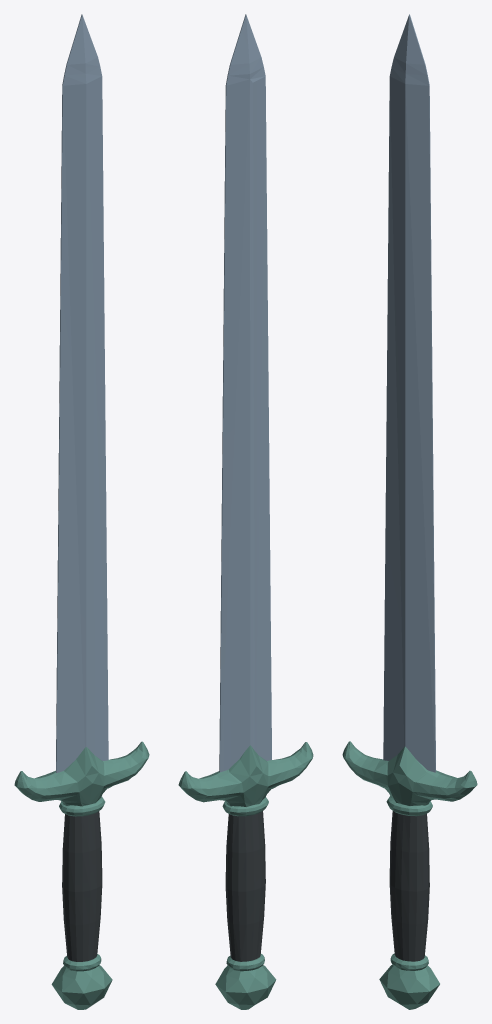
File: starter_jian.glb
3 renders of one model, left to right at view 1: azimuth 30°, elevation 25°; view 2: azimuth 210°, elevation 25°; view 3: azimuth 330°, elevation 25°, orthographic.
Visible parts, largest first — view 1: StarterJian; view 2: StarterJian; view 3: StarterJian.
Boxes of the visible parts, <box> form: StarterJian: <box>14,14,149,1009</box>; StarterJian: <box>178,14,313,1009</box>; StarterJian: <box>342,14,477,1009</box>.
Bounding box in the file's own units: 0.1253 × 0.9 × 0.0391.
